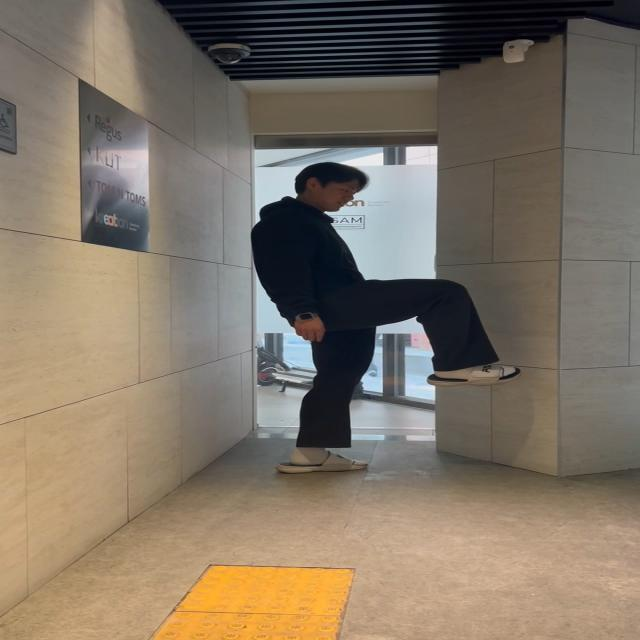knee: (278, 263, 528, 391)
